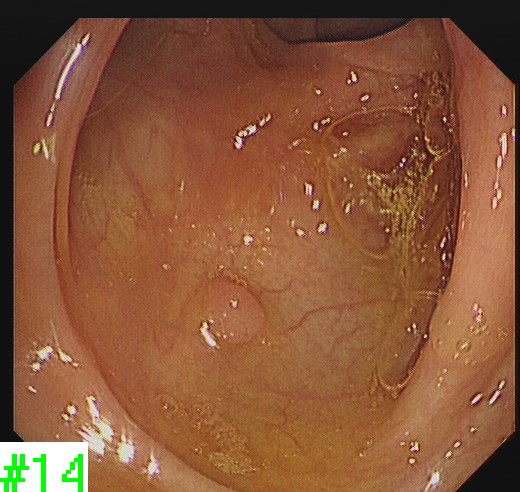adenoma: (195, 277, 269, 344)
